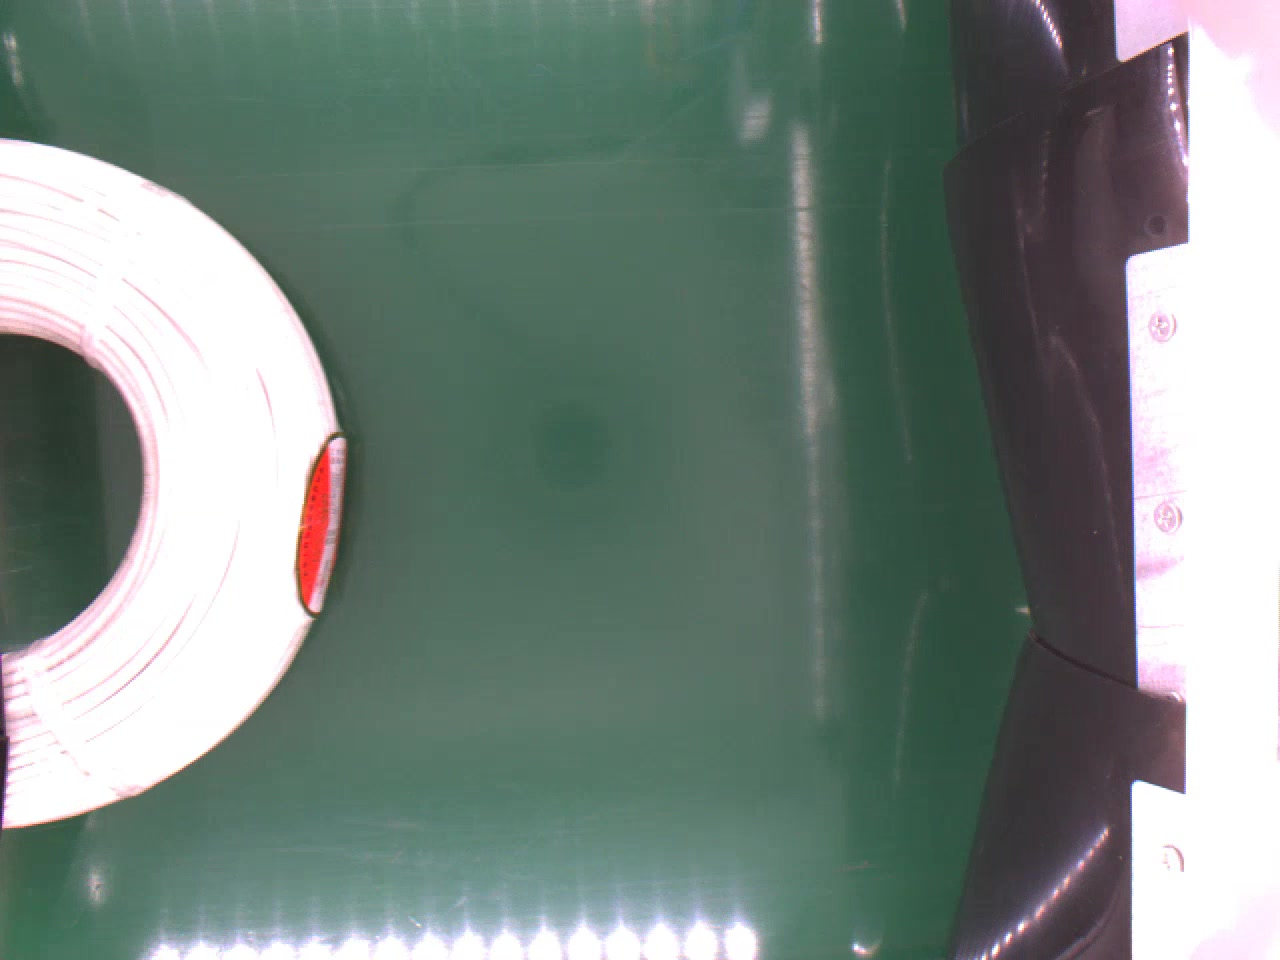white: (0, 136, 348, 829)
